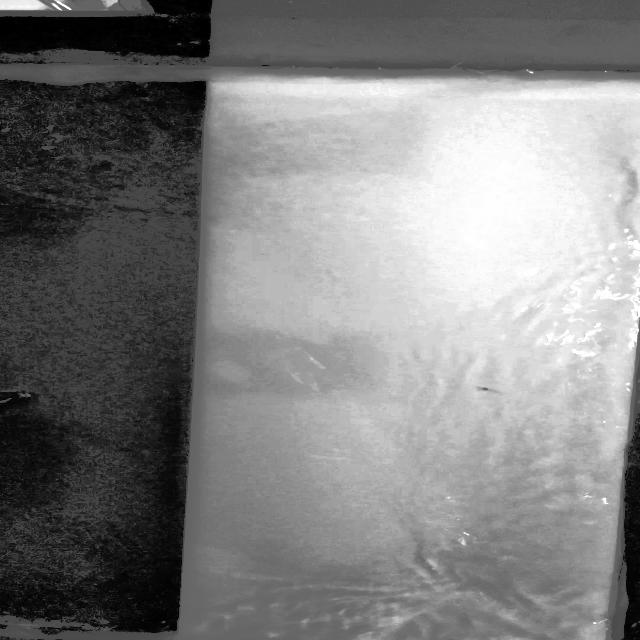shrimp: (463, 384, 511, 400)
